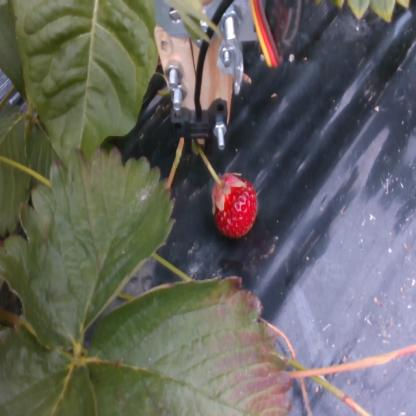ripe: (212, 175, 258, 240)
